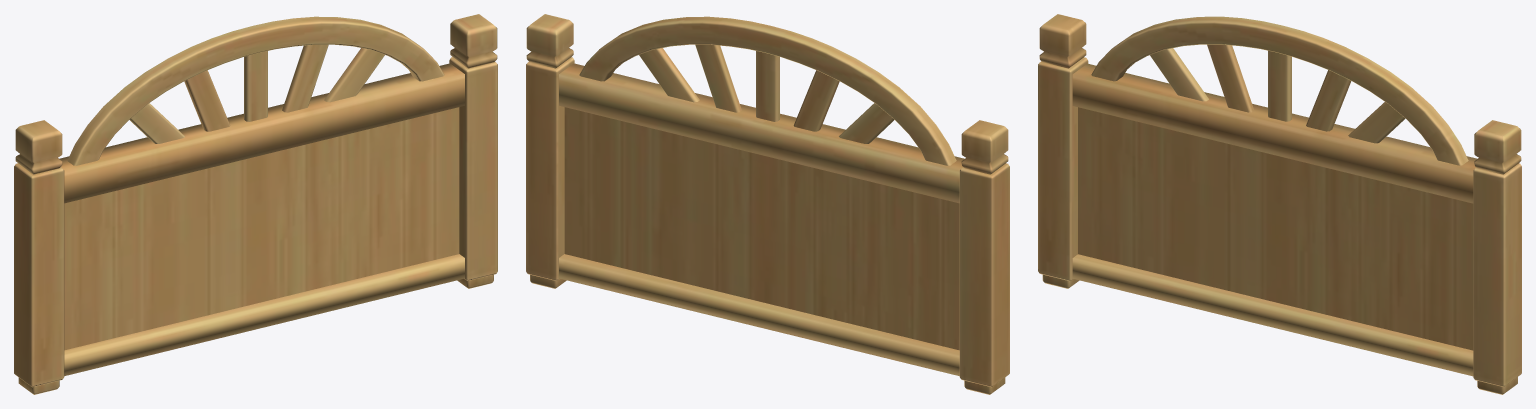
3 views of the same model, side by side, from view 1: azimuth 30°, elevation 25°; view 2: azimuth 150°, elevation 25°; view 3: azimuth 330°, elevation 25° (orthographic).
Bounding box in the file's own units: 20 × 12.52 × 1.37.
1 material, 1 textured.
